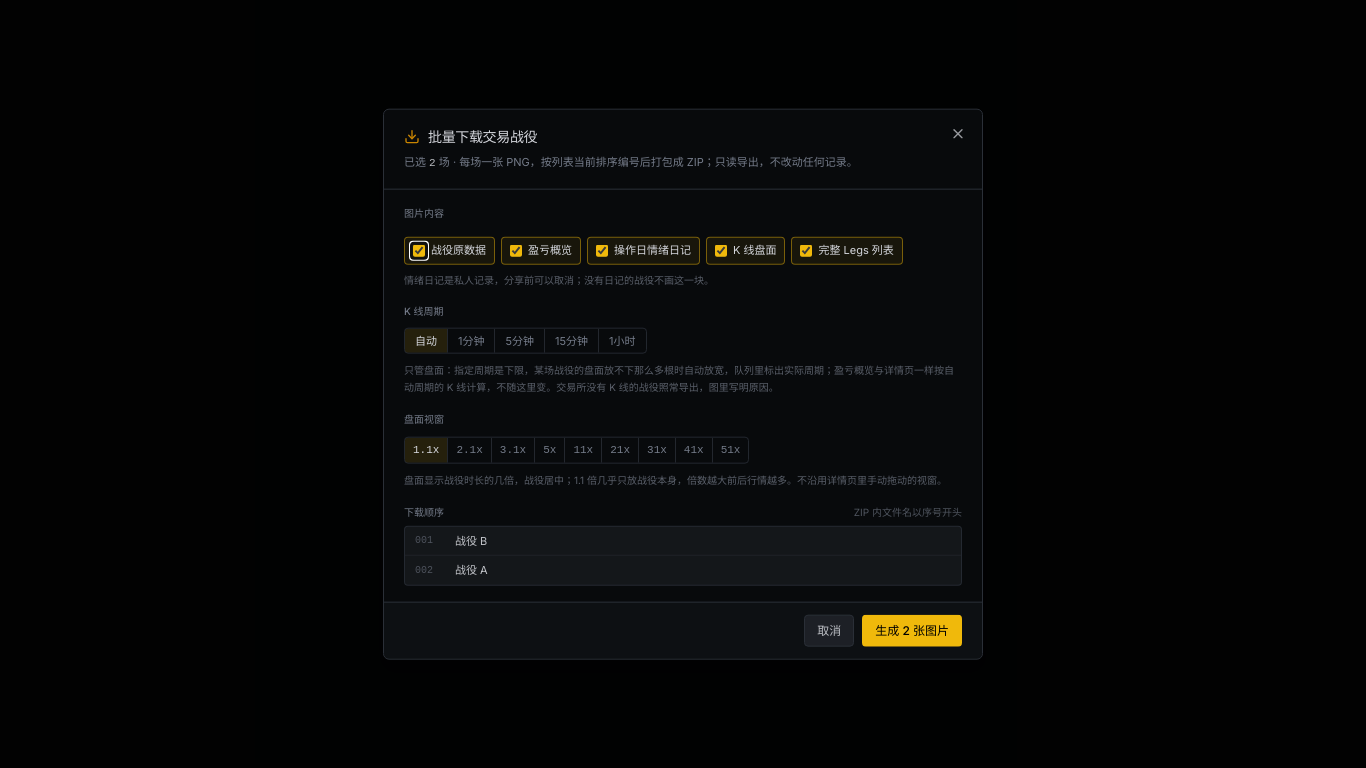
Test case: 批量下载队列 › 至少要选一项内容才能开始
Click the checkbox labelled "战役原数据" at [419, 250], box [413,244,425,256]
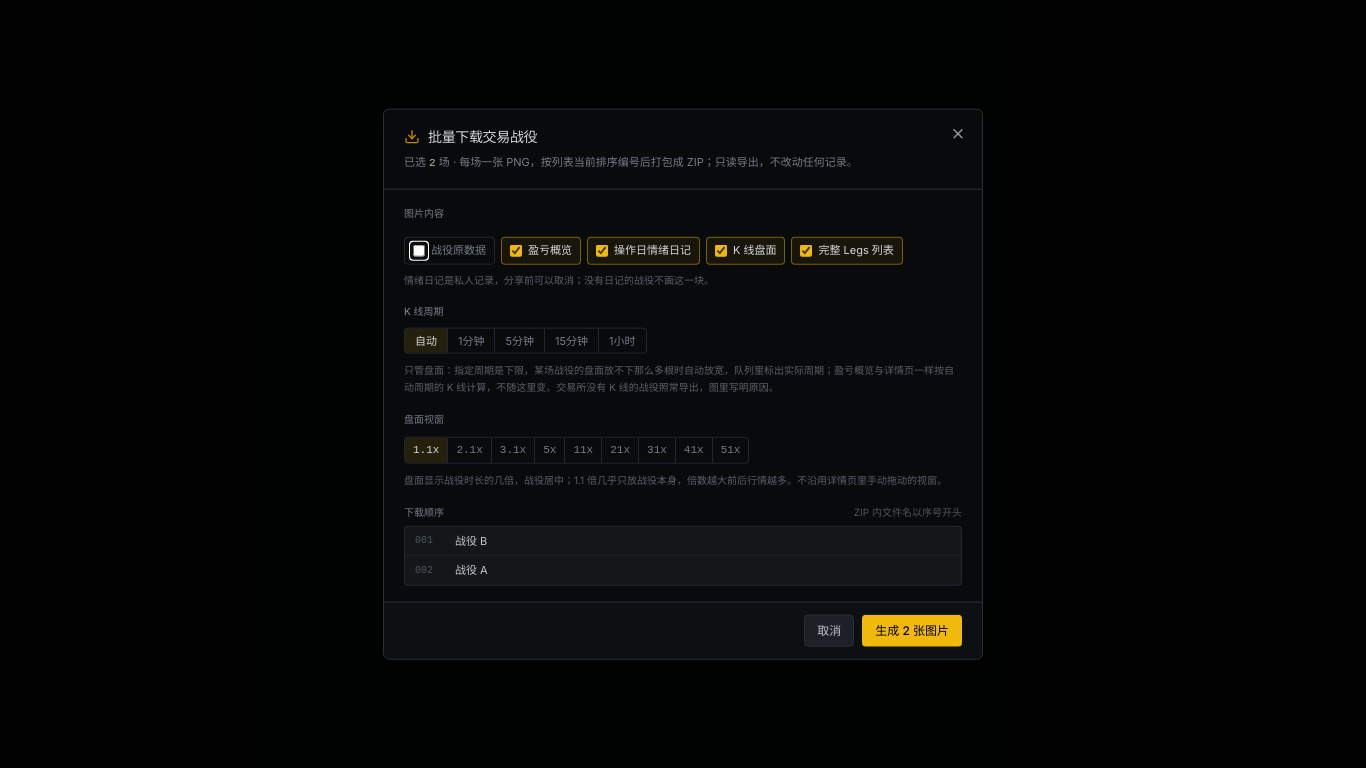
Click the checkbox labelled "盈亏概览" at [516, 250], box [510,244,522,256]
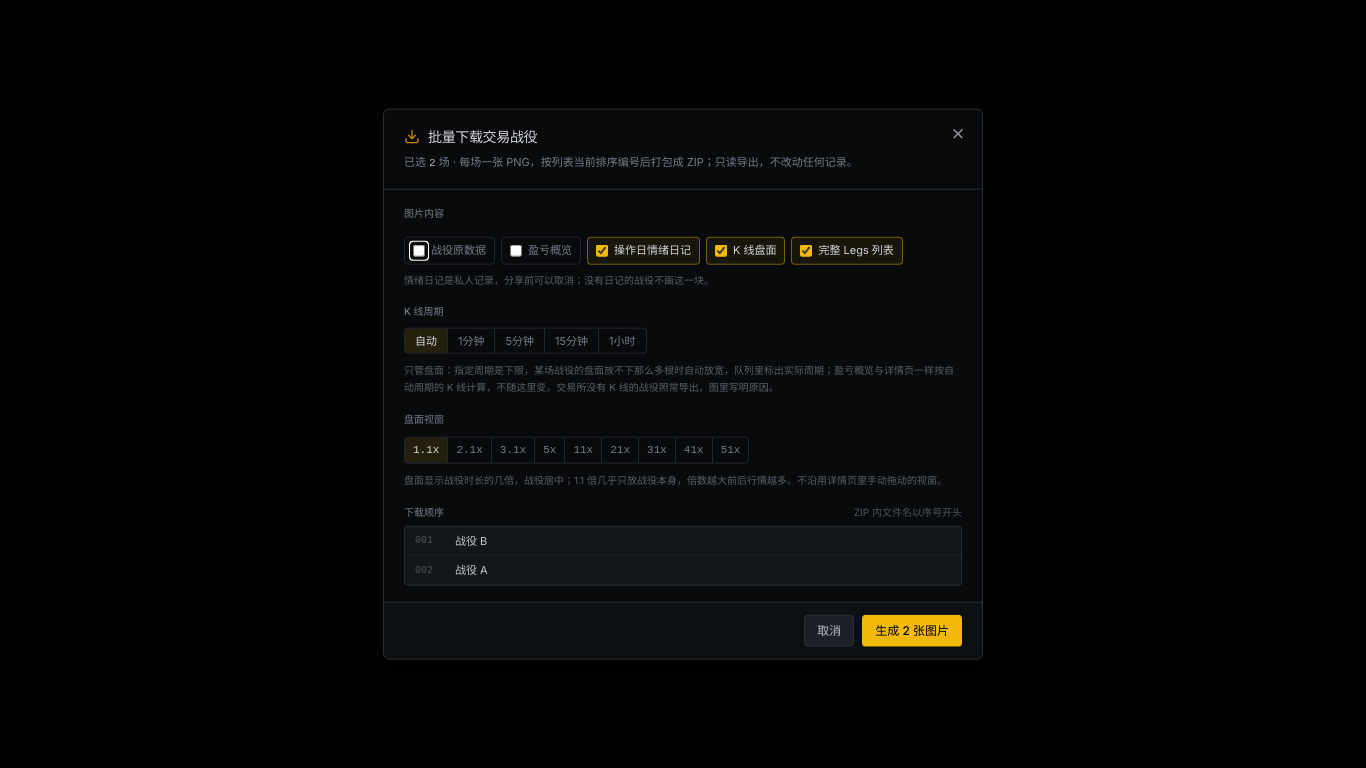
Click the checkbox labelled "操作日情绪日记" at [602, 250], box [596,244,608,256]
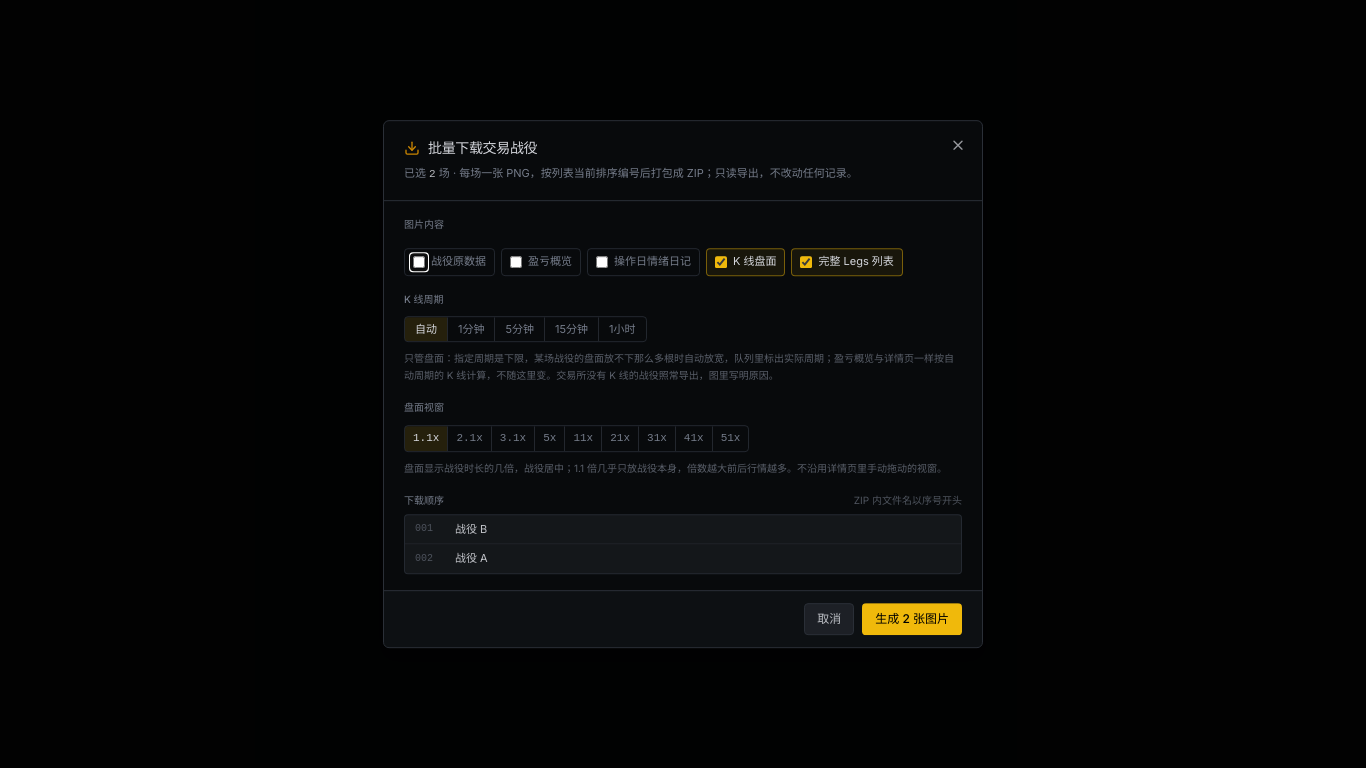
Click the checkbox labelled "K 线盘面" at [721, 262], box [715,256,727,268]
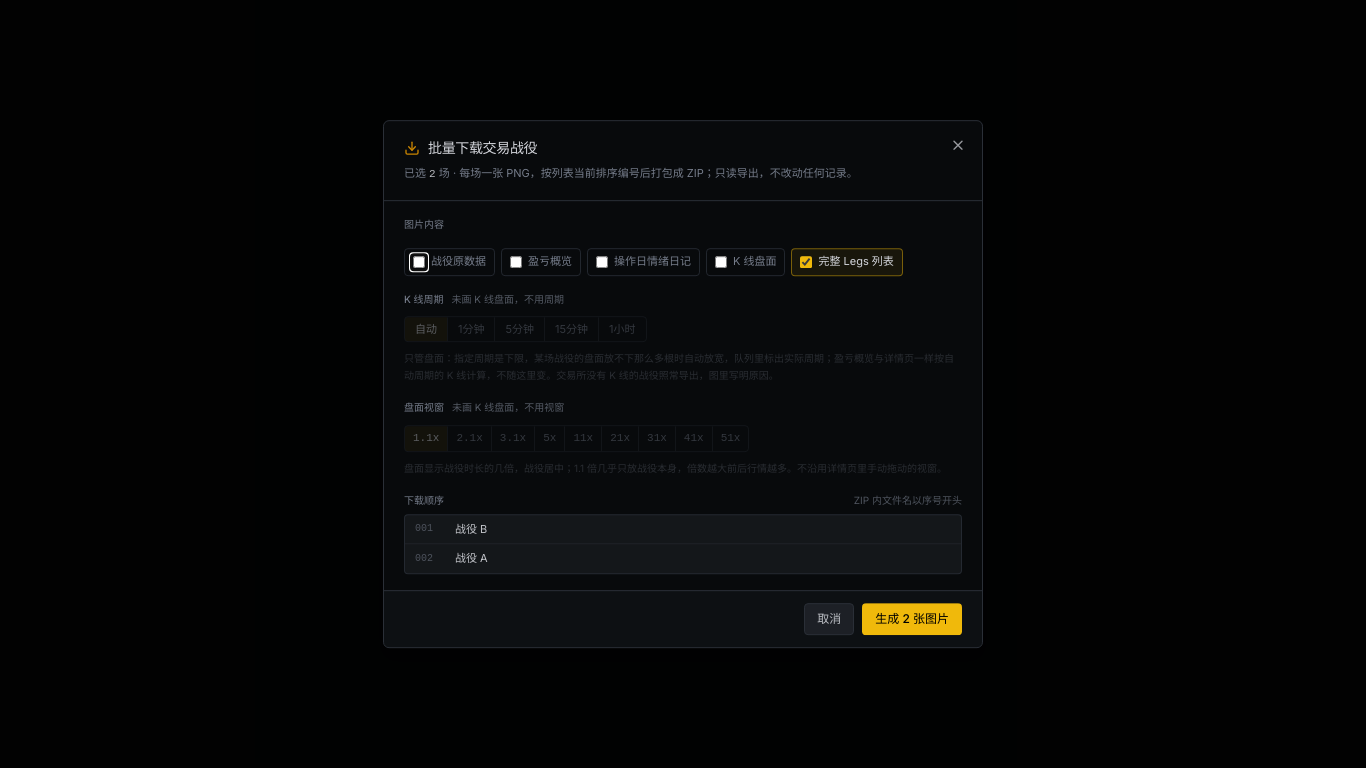
Click the checkbox labelled "完整 Legs 列表" at [806, 262], box [800,256,812,268]
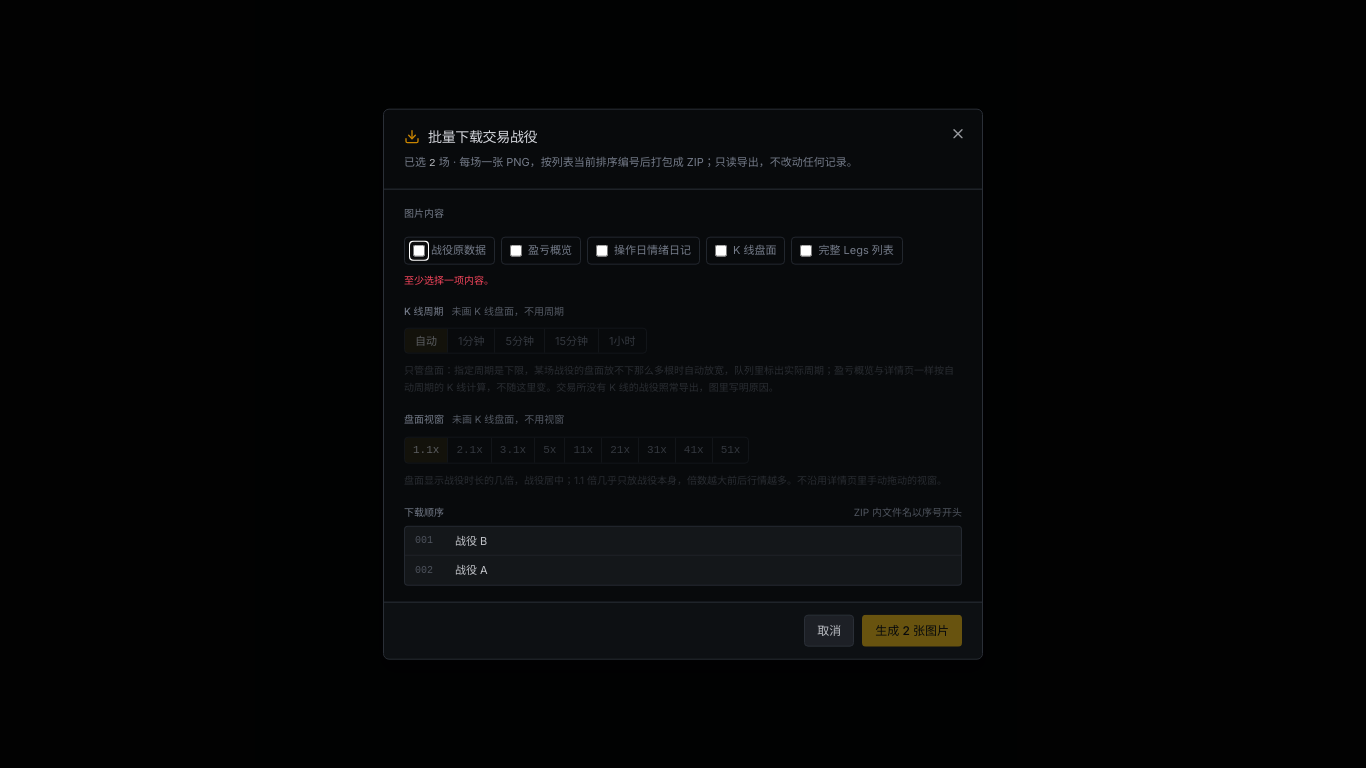
Expected: the button "生成 2 张图片" is disabled, [862,614,962,646]
Expected: the message shows "至少选择一项内容", [404,273,494,285]
